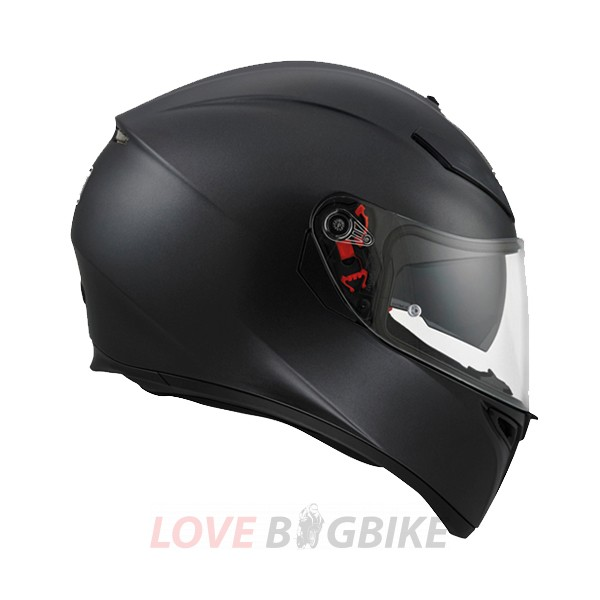Helmet: (63, 52, 548, 550)
